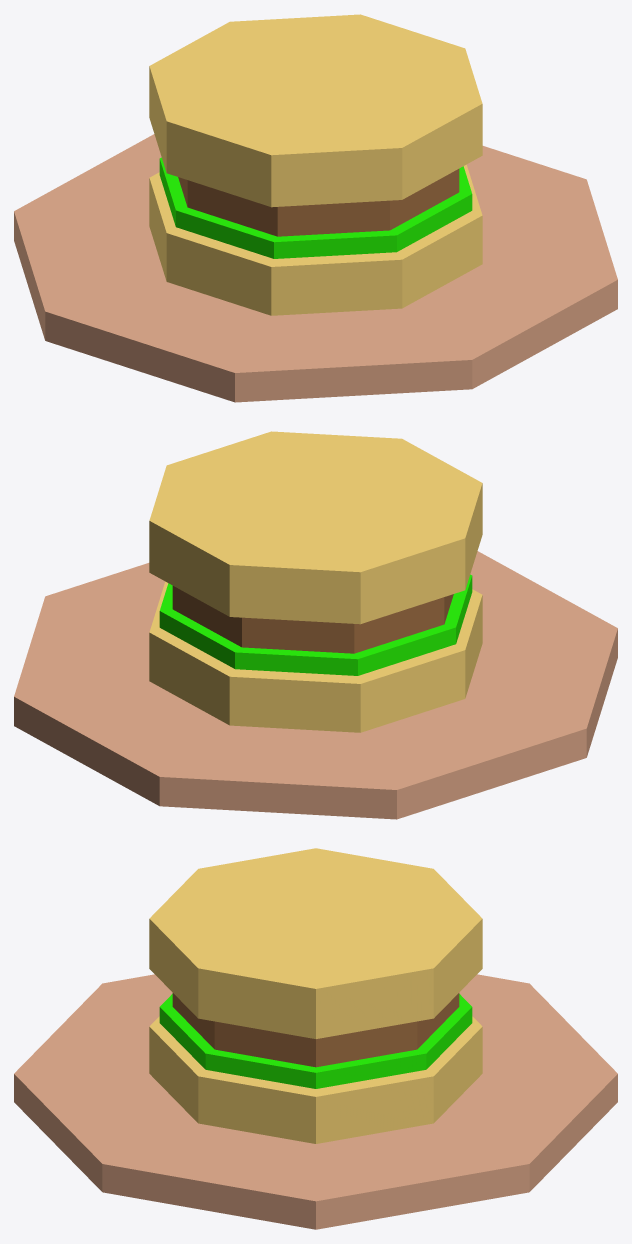
The model's file is Borger.fbx.
3 renders of one model, top to bottom at view 1: azimuth 30°, elevation 25°; view 2: azimuth 150°, elevation 25°; view 3: azimuth 270°, elevation 25°, orthographic. The views are drawn at different scales.
Visible parts, largest first — view 1: Cylinder, Cylinder.001, Cylinder.003, Cylinder.002; view 2: Cylinder, Cylinder.001, Cylinder.003, Cylinder.002; view 3: Cylinder, Cylinder.001, Cylinder.003, Cylinder.002.
Part boxes in pixels (bbox=[...]): Cylinder: bbox=[14, 134, 617, 402]; Cylinder.001: bbox=[149, 14, 482, 315]; Cylinder.003: bbox=[159, 157, 472, 258]; Cylinder.002: bbox=[178, 169, 459, 236]; Cylinder: bbox=[14, 551, 617, 819]; Cylinder.001: bbox=[149, 431, 482, 732]; Cylinder.003: bbox=[159, 574, 472, 675]; Cylinder.002: bbox=[172, 586, 453, 653]; Cylinder: bbox=[14, 974, 617, 1229]; Cylinder.001: bbox=[149, 848, 482, 1143]; Cylinder.003: bbox=[159, 994, 472, 1088]; Cylinder.002: bbox=[172, 993, 459, 1067].
Bounding box in the file's own units: 363 × 122 × 363.
